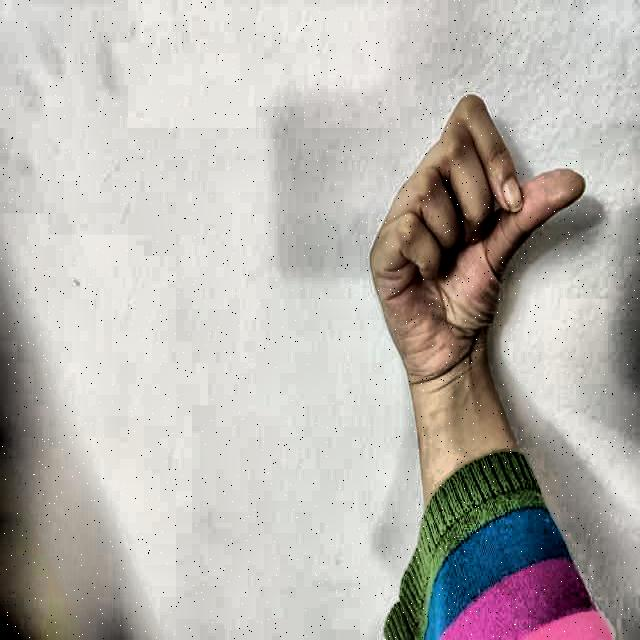Ay: (344, 58, 601, 418)
